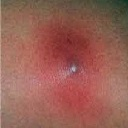Carcinoma: (58, 45, 81, 82)
